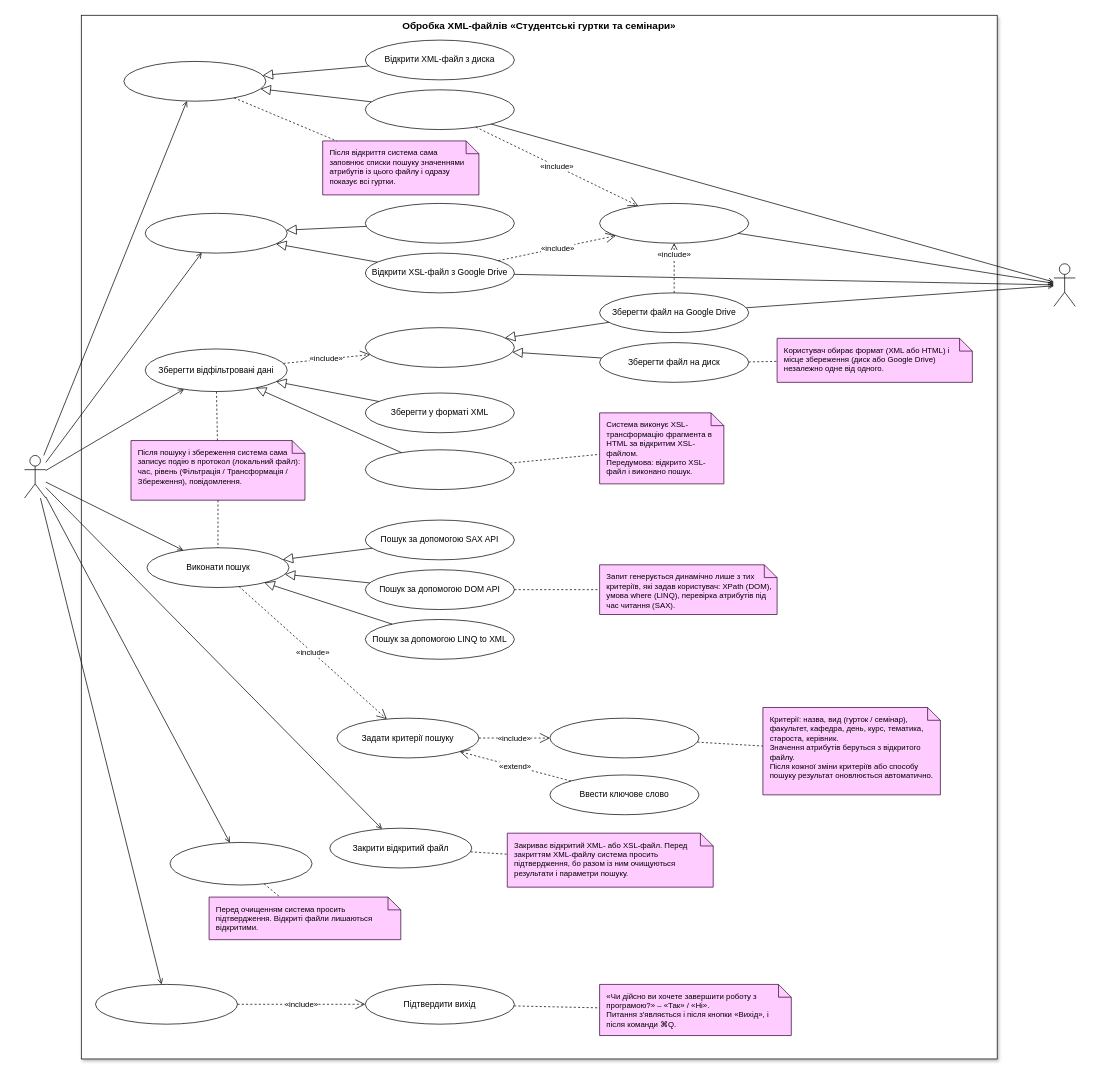
Some shapes in this 1109 by 1076 pixel diagram are drawn without their labels. The centre of each missing label's shape, as x and y in pixels:
Google Drive API: [1064,284]
Авторизуватися в Google Drive: [674,223]
Відкрити XML-файл: [194,81]
Відкрити XML-файл з Google Drive: [439,109]
Відкрити XSL-файл: [215,233]
Відкрити XSL-файл з диска: [439,223]
Завершити роботу з програмою: [166,1004]
Зберегти у форматі HTML: [439,469]
Зберегти файл: [439,347]
Користувач: [35,476]
Обрати значення атрибута зі списку: [624,737]
Очистити поле виводу та параметри пошуку: [240,863]
